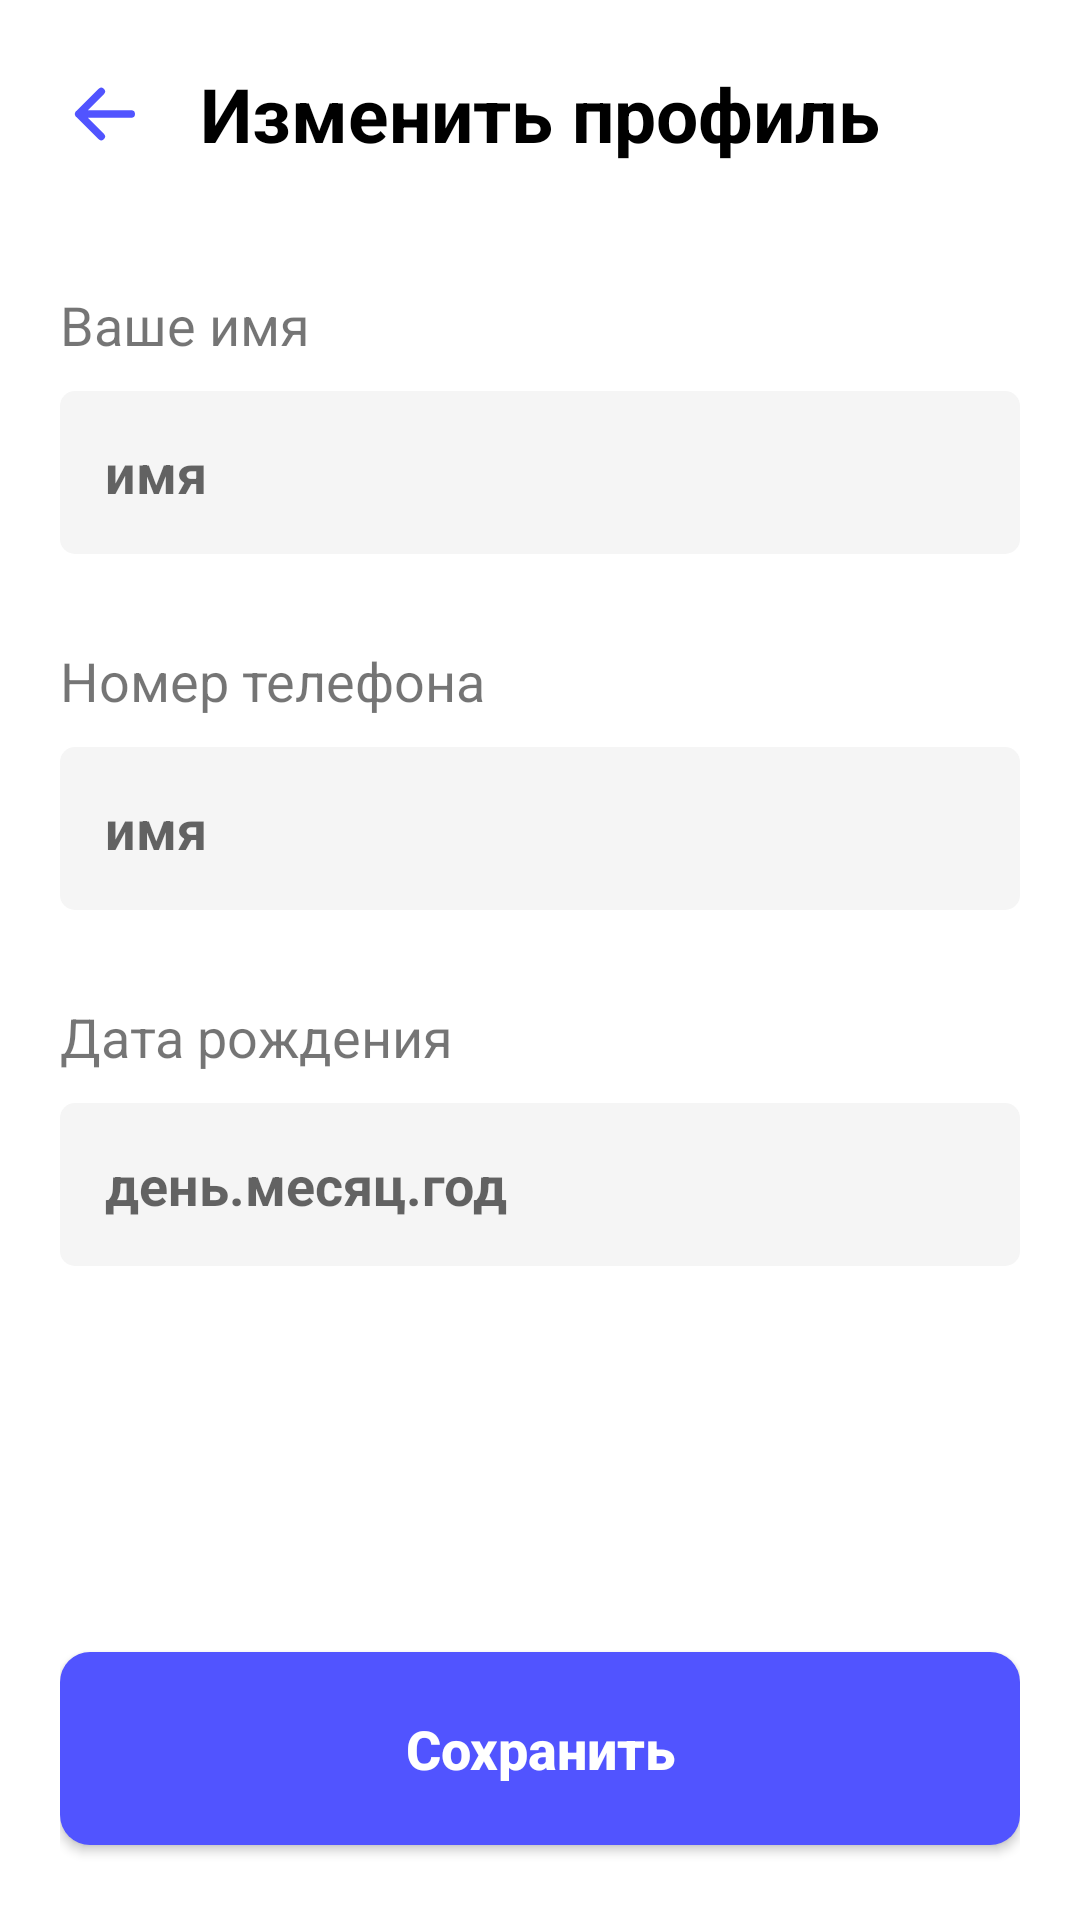

Screen size 1080x1920. Icon name, then its box in pixels as (x1, y1, x2, y2):
arrow left: (75, 87, 135, 141)
